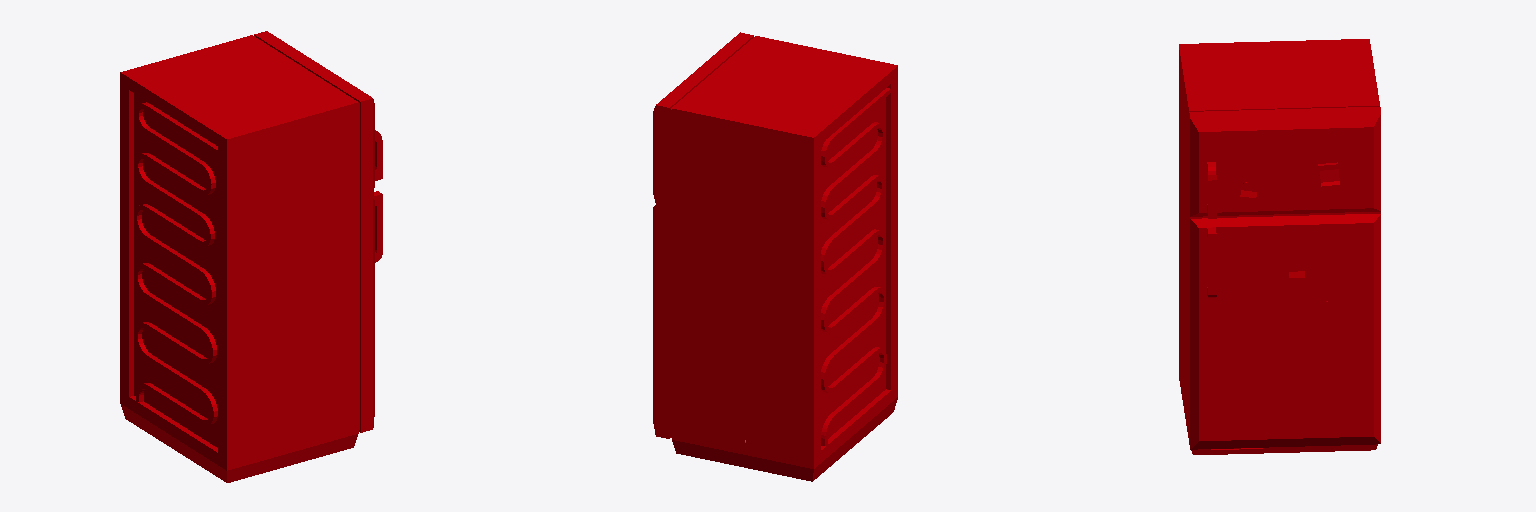
File: left_fridge.obj
3 views of the same model, side by side, from view 1: azimuth 30°, elevation 25°; view 2: azimuth 150°, elevation 25°; view 3: azimuth 270°, elevation 25° (orthographic).
Parts seen in each view (by area): view 1: Fridge_Cube; view 2: Fridge_Cube; view 3: Fridge_Cube.
Part boxes in pixels (x1,y1,x2,y2): Fridge_Cube: (120, 31, 382, 482); Fridge_Cube: (653, 32, 897, 481); Fridge_Cube: (1179, 39, 1380, 454).
Bounding box in the file's own units: 399 × 728 × 386.